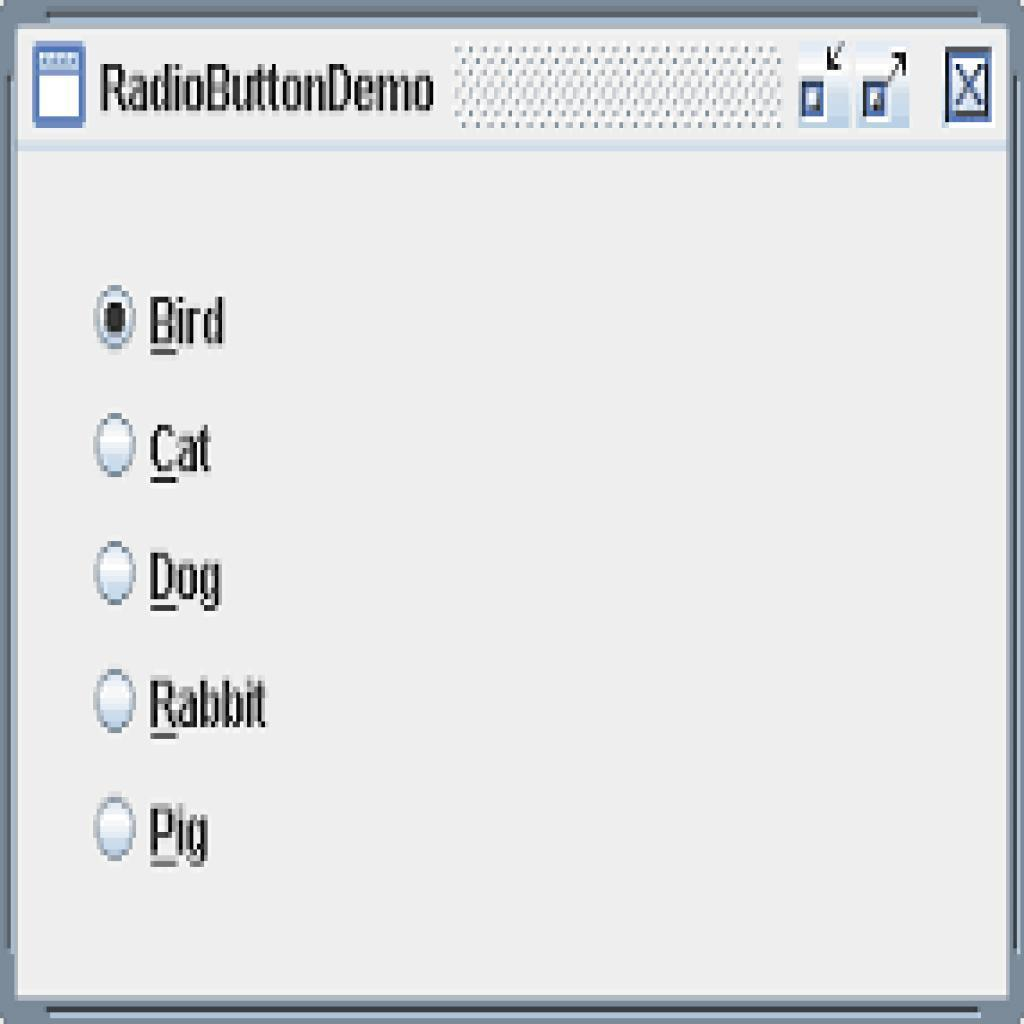radio: (92, 286, 138, 353), (91, 669, 136, 737), (92, 543, 139, 608), (94, 796, 138, 865), (94, 414, 139, 476)
